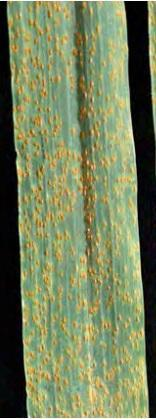Wheat: (6, 10, 112, 224), (25, 234, 138, 403)
